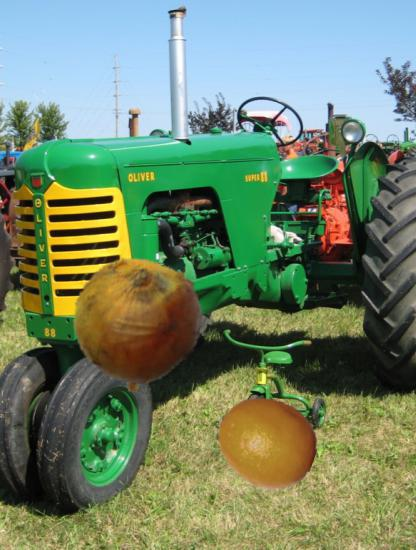Lemon: (215, 391, 318, 494)
Onion: (70, 252, 205, 387)
